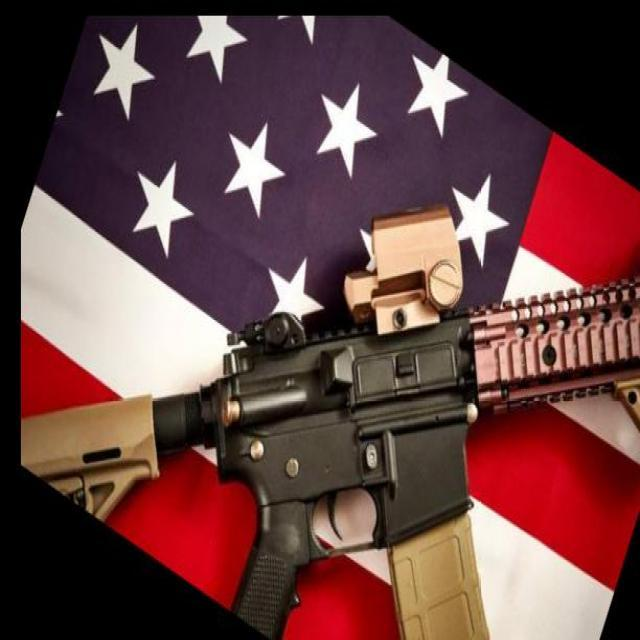weapon: (20, 207, 639, 640)
